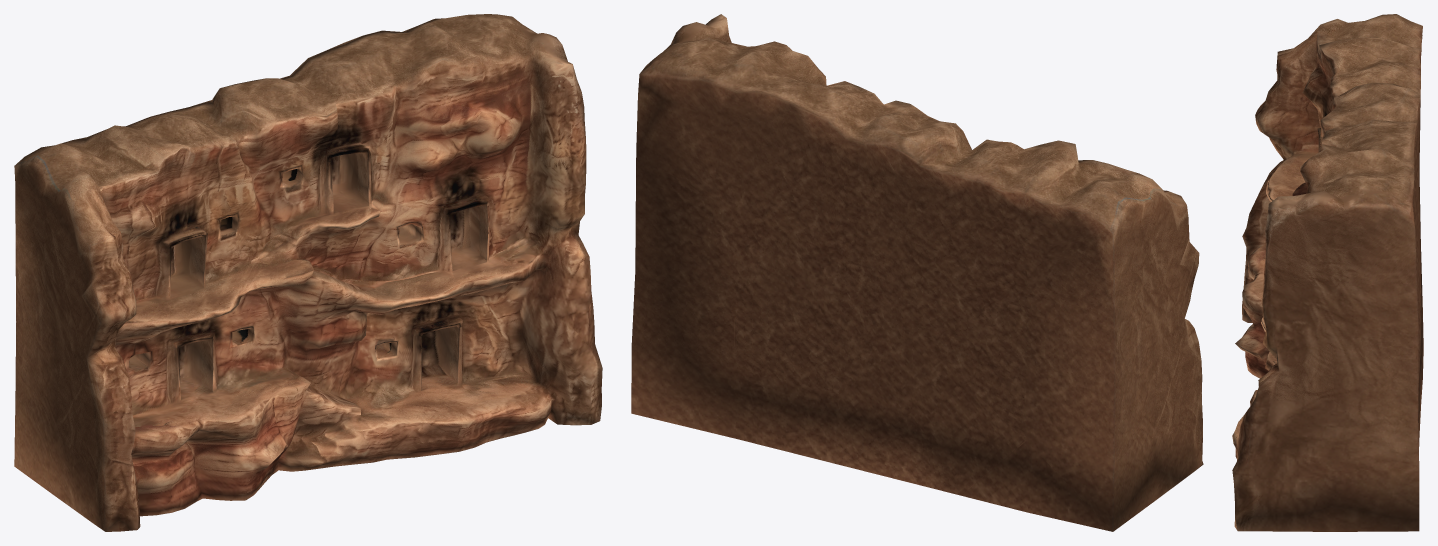
The model's file is goblin-sand-cliff-facade-wide.glb.
3 renders of one model, left to right at view 1: azimuth 30°, elevation 25°; view 2: azimuth 150°, elevation 25°; view 3: azimuth 270°, elevation 25°, orthographic. The views are drawn at different scales.
Bounding box in the file's own units: 1 × 0.7126 × 0.3637.
1 material, 1 textured.
